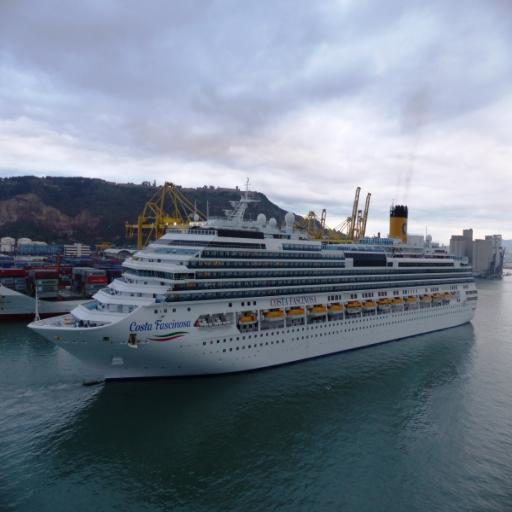cruises: (25, 185, 488, 387)
